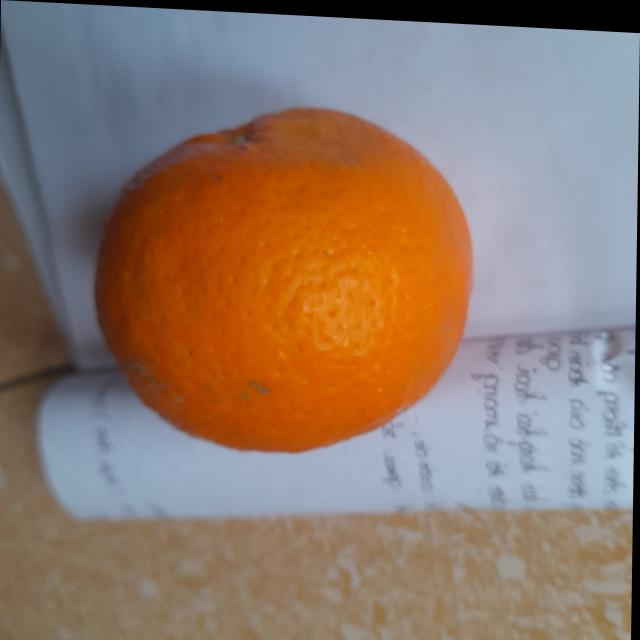Cam: (91, 92, 476, 458)
